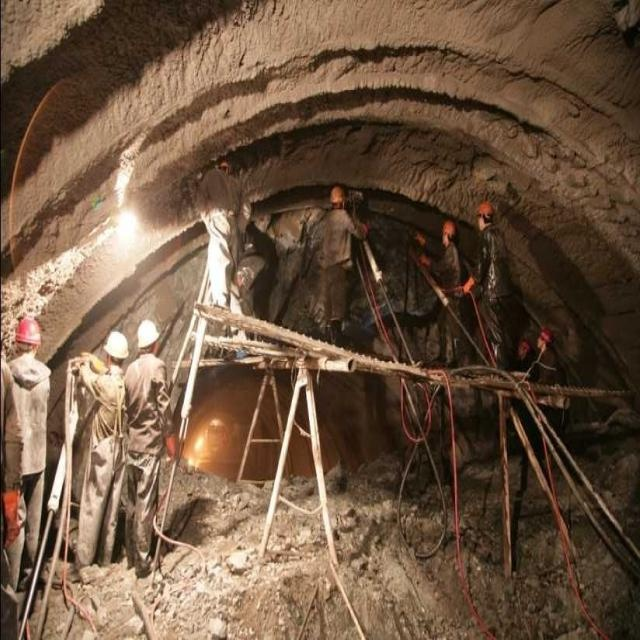Con_Casco: (14, 318, 41, 354), (136, 317, 160, 357)
